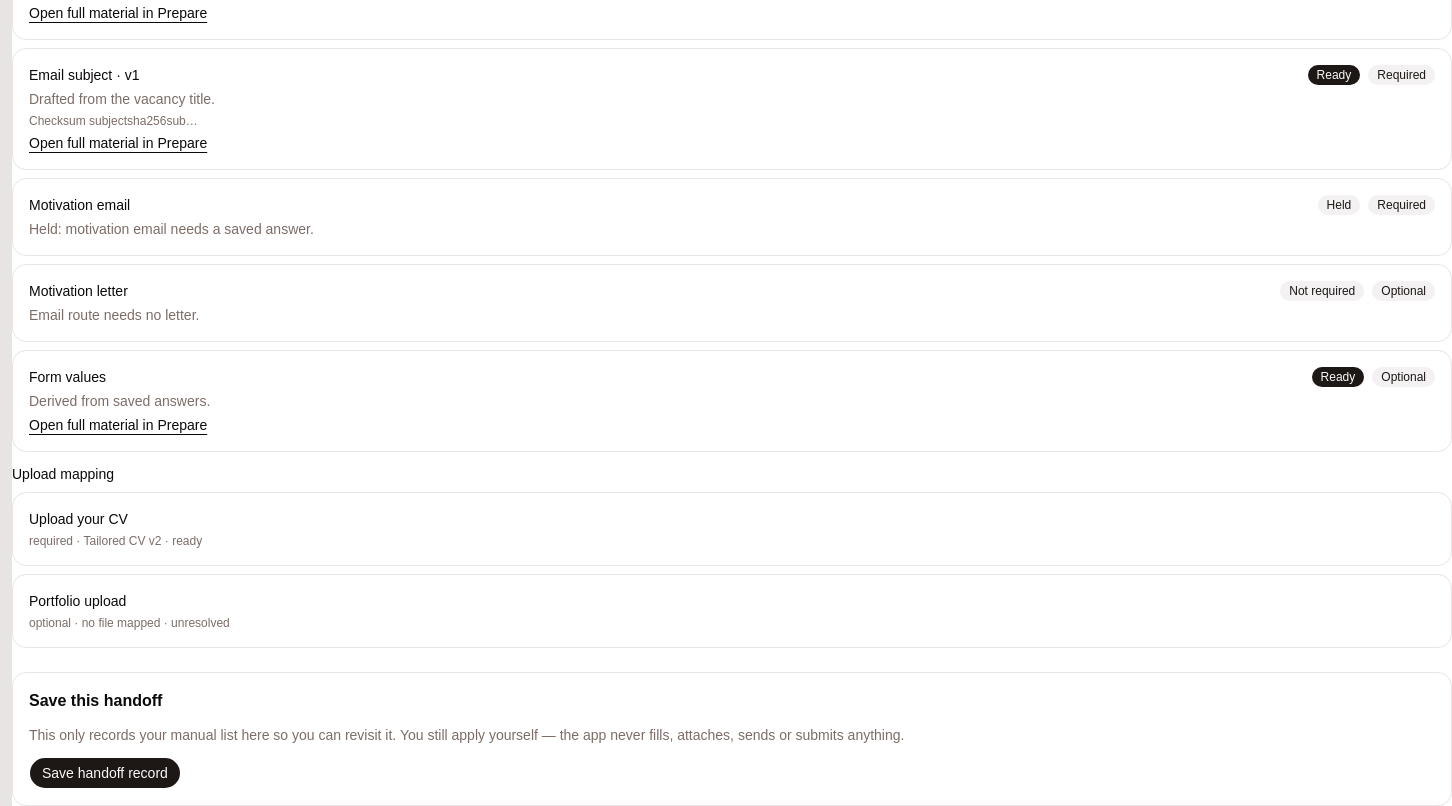
Test: HandoffPage › saves the handoff record explicitly and reaches the terminal state
The width and height of the screenshot is (1452, 806).
(page scrolled)
Expected: the text "This only records your manual list here so you can revisit it." is shown, [29,727,904,743]
Click the button "Save handoff record": click(105, 773) [29,757,181,789]
(page scrolled)
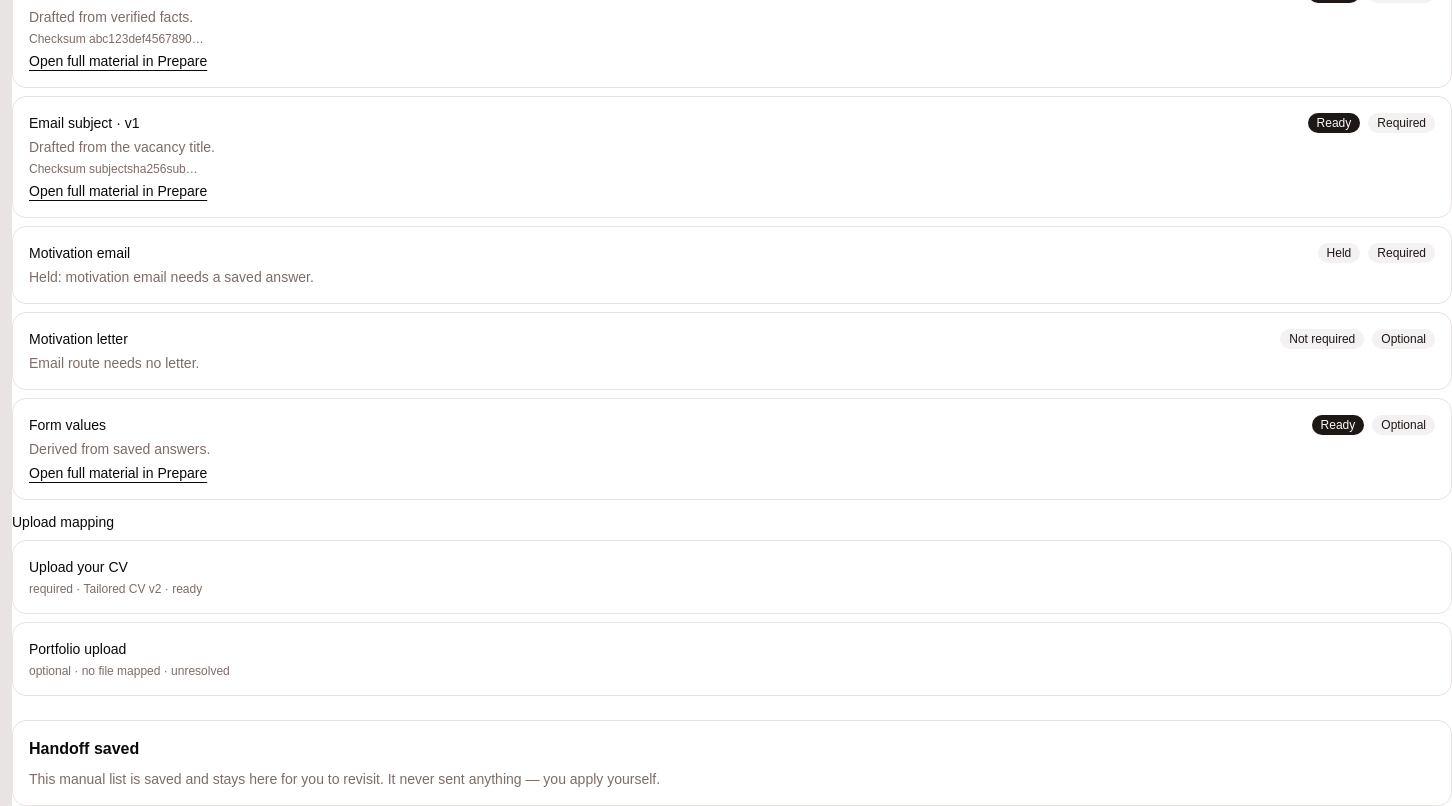
Expected: the heading "Handoff saved" is shown, [29,740,139,757]
Expected: the button "Save handoff record" is gone
